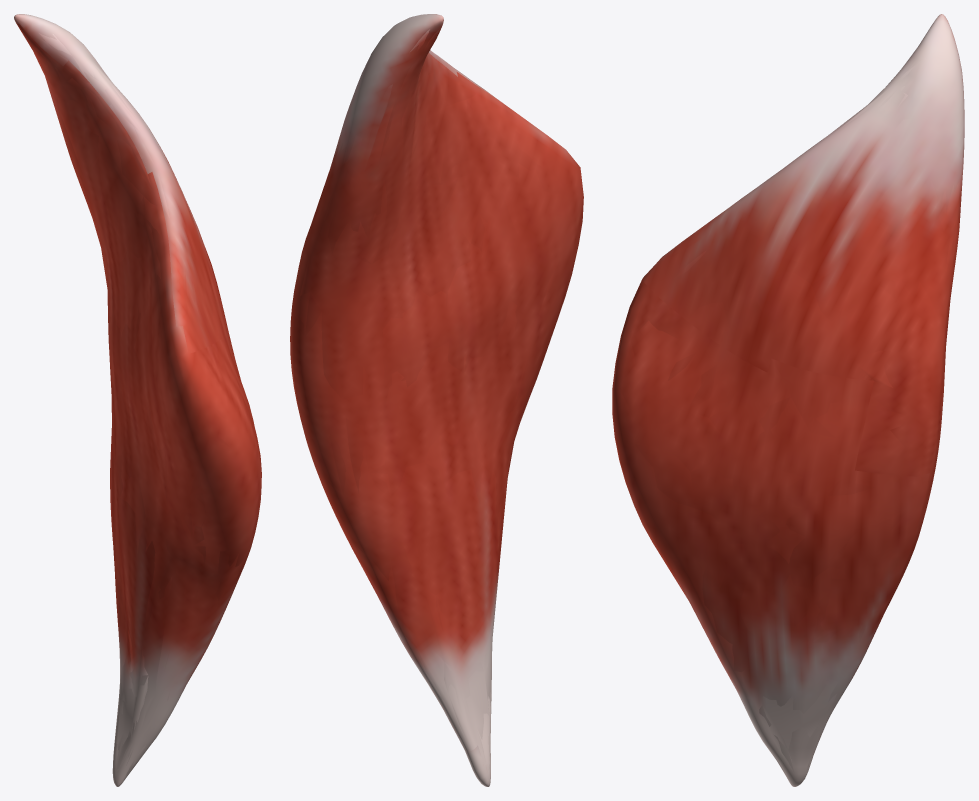
The model's file is L Triceps Brachii Long Head.fbx.
The picture shows the model from 3 angles, left to right: view 1: azimuth 30°, elevation 25°; view 2: azimuth 150°, elevation 25°; view 3: azimuth 270°, elevation 25°; orthographic projection. The views are drawn at different scales.
Parts seen in each view (by area): view 1: L Triceps Brachii Long Head, L Triceps Brachii Long Head low; view 2: L Triceps Brachii Long Head, L Triceps Brachii Long Head low; view 3: L Triceps Brachii Long Head, L Triceps Brachii Long Head low.
Boxes of the visible parts, x1,y1,x2,y2 form: L Triceps Brachii Long Head: (14, 14, 261, 786); L Triceps Brachii Long Head low: (28, 25, 261, 778); L Triceps Brachii Long Head: (290, 14, 583, 786); L Triceps Brachii Long Head low: (295, 28, 581, 777); L Triceps Brachii Long Head: (612, 14, 964, 786); L Triceps Brachii Long Head low: (613, 36, 963, 781).
Bounding box in the file's own units: 12.19 × 56.84 × 23.97.
